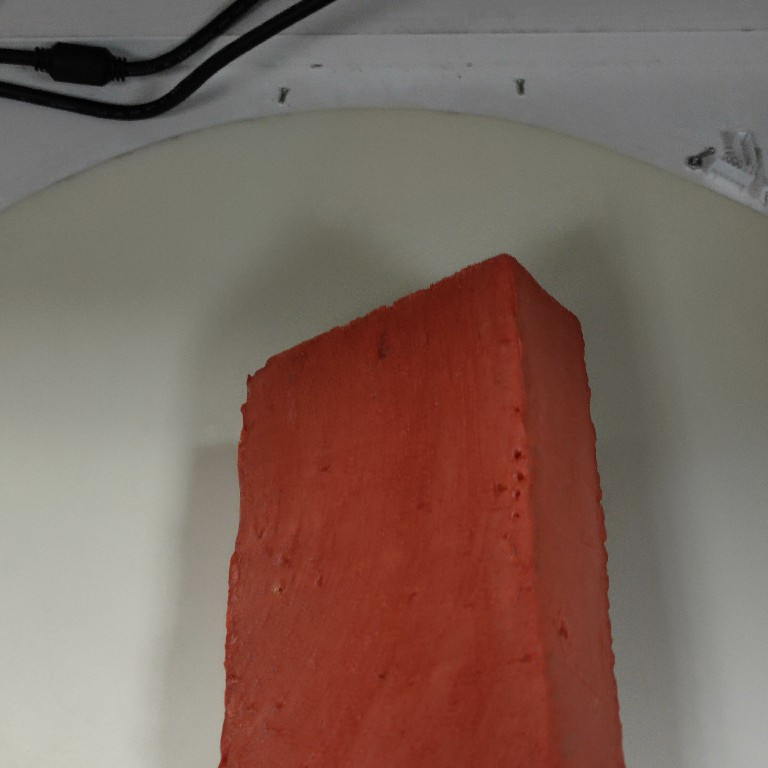brick: (212, 250, 627, 768)
